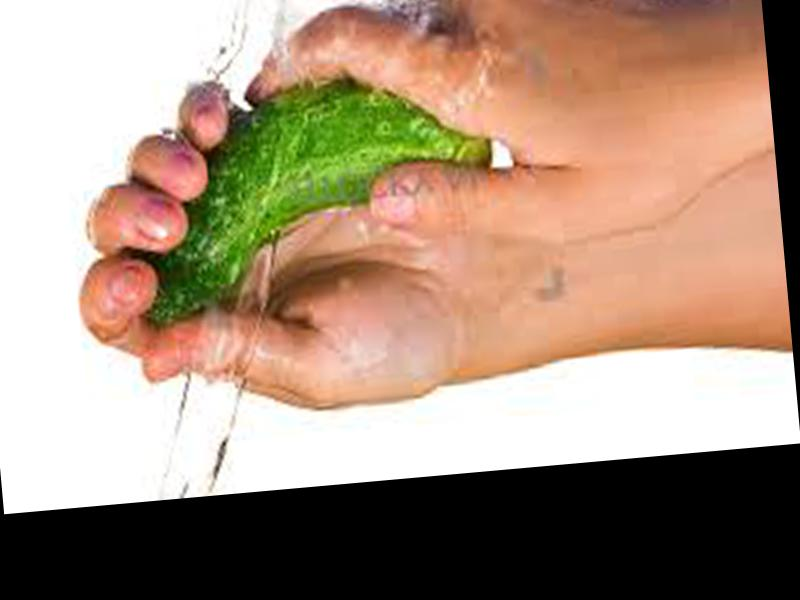Cucumber: (125, 62, 507, 326)
